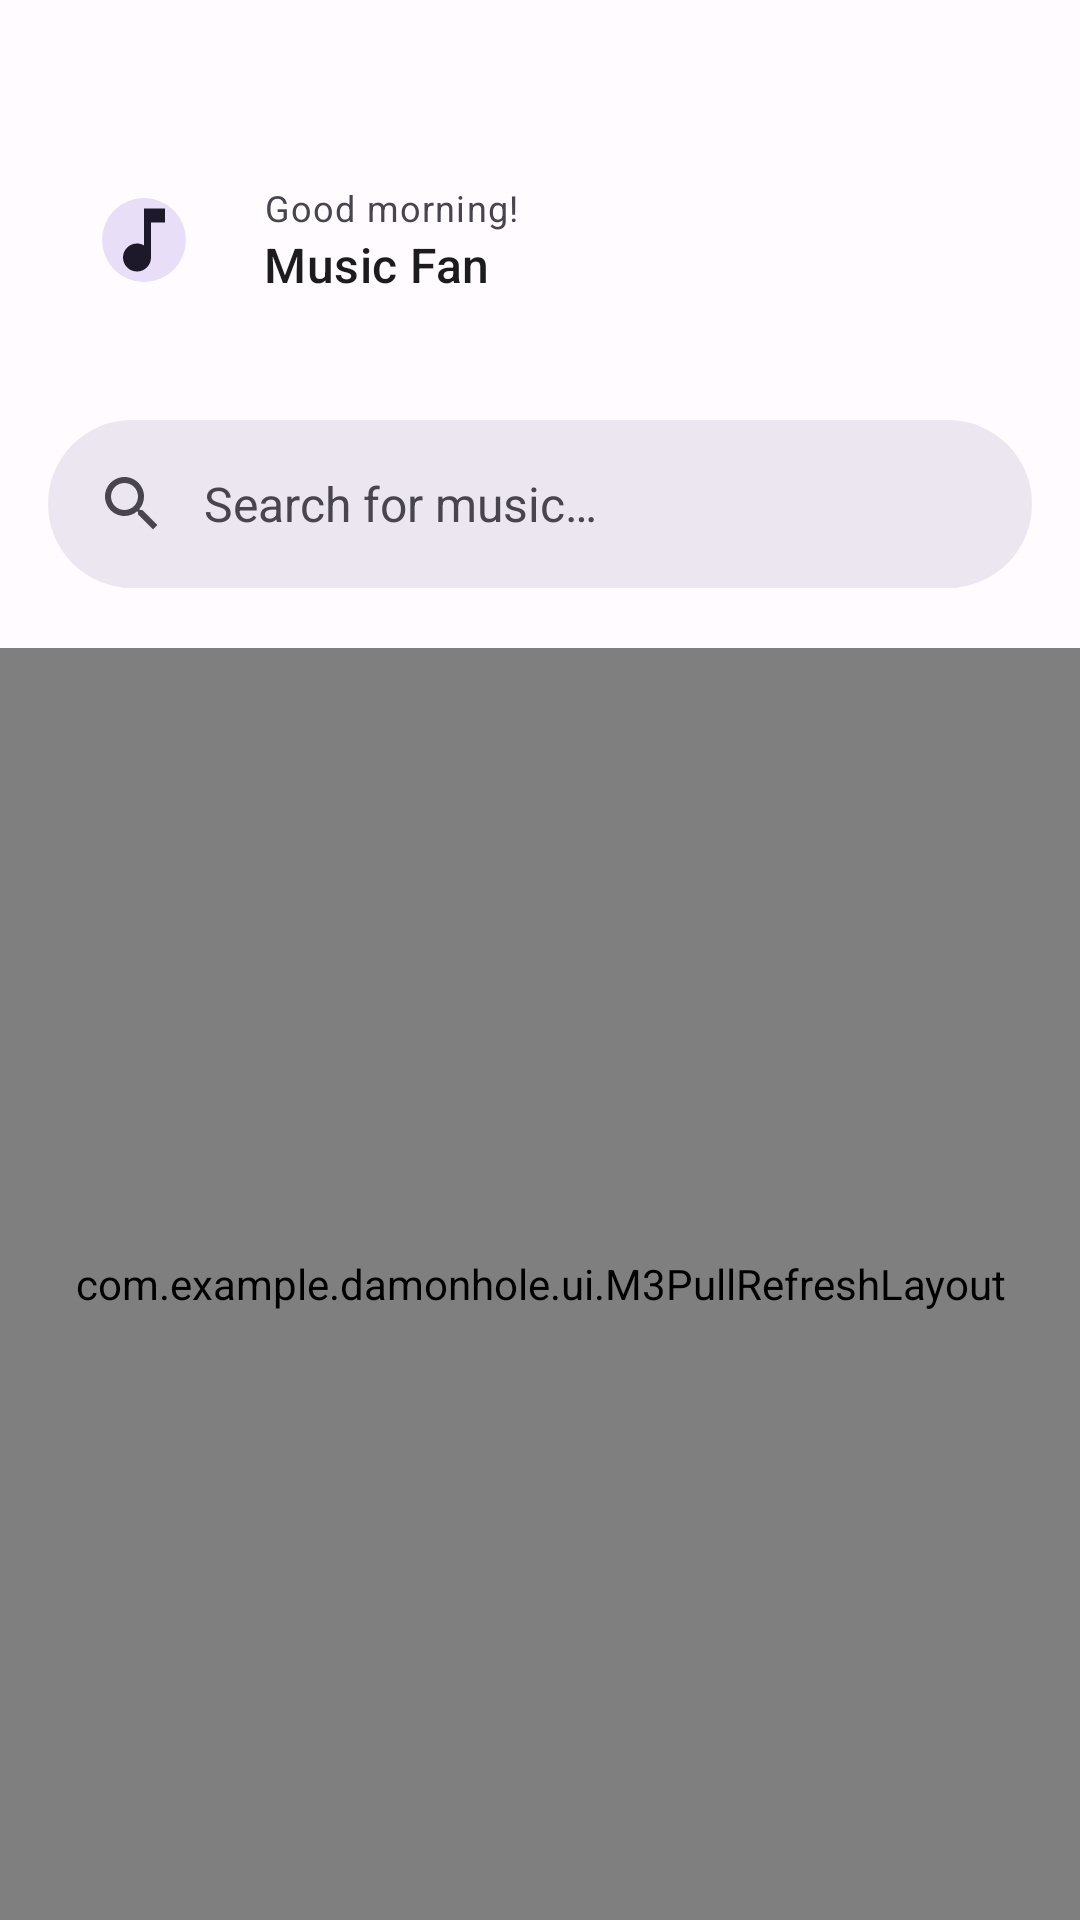

Point at icon controls on the screen. Image size 1080×1920, points as [x,y].
music note: [144,240]
